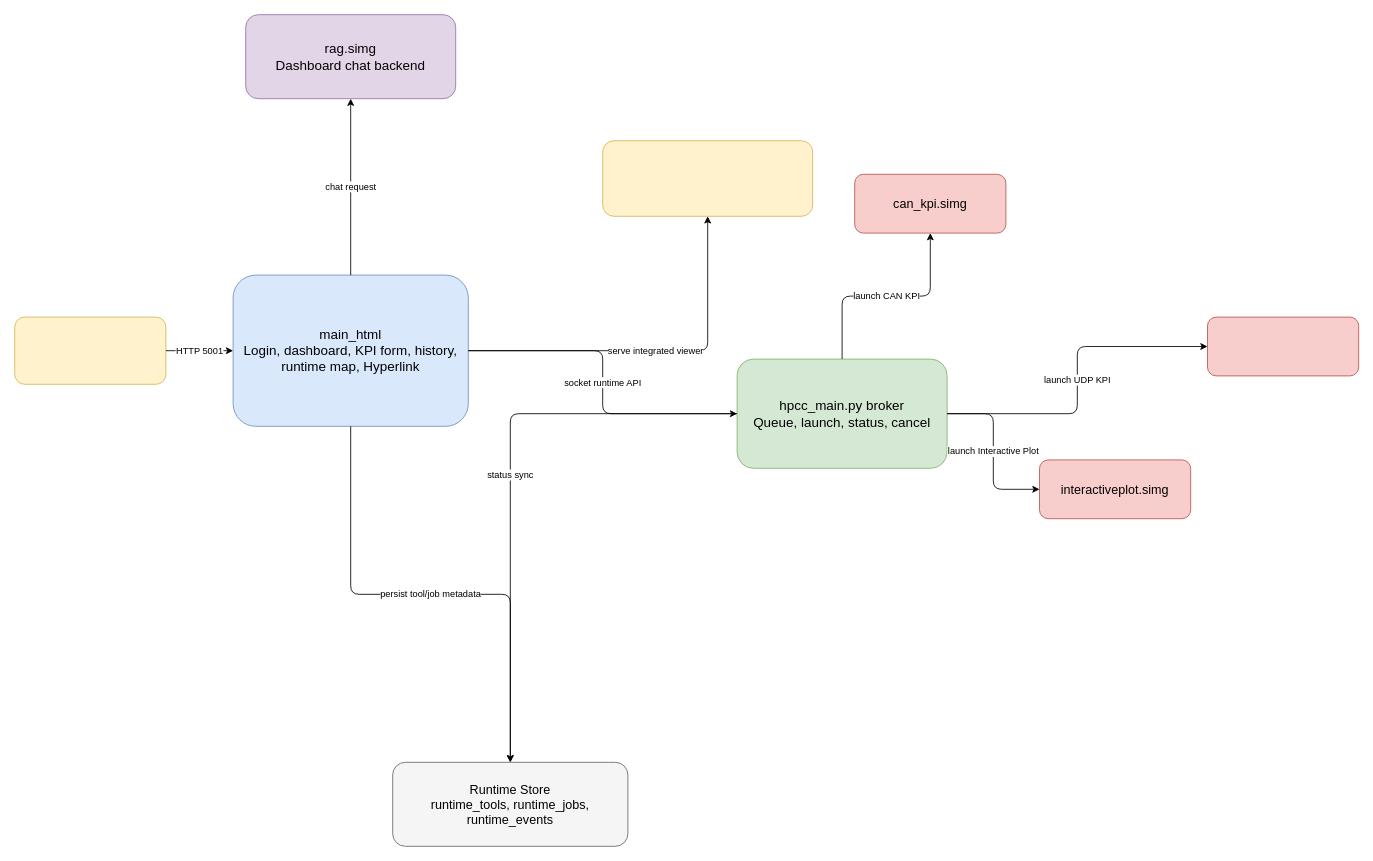
The diagram is 1373 pixels wide and 861 high, and some of its shapes have lost their labels. Here are the shapes that lost their labels. From the top down, the centre of each, then its label:
point 707,178: Hyperlink viewer Integrated in main_html
point 90,350: Browser User
point 1283,346: udp_kpi.simg
